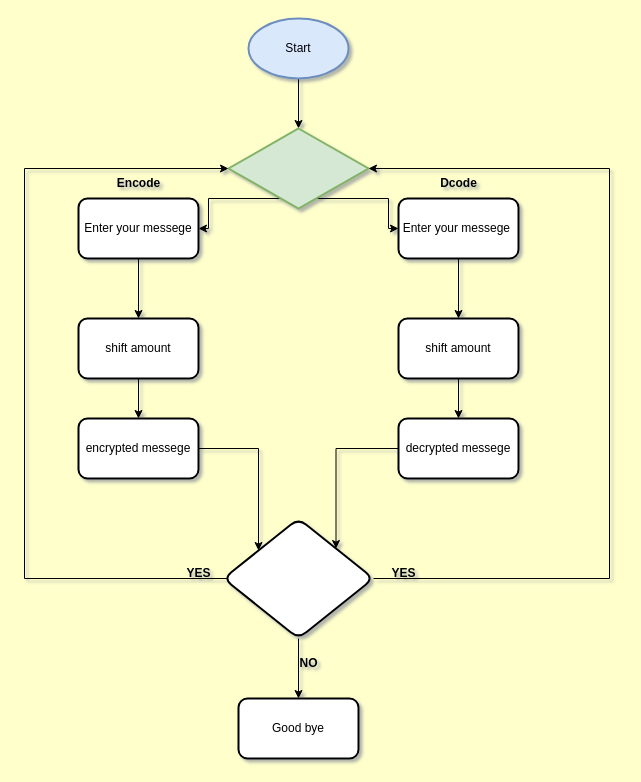
Some shapes in this 641 by 782 pixel diagram are drawn without their labels. Each missing label, with the centre of its shape:
"Encode or decode" goes at point 298,168.
"Promt the user to restart the promgram" goes at point 298,578.
